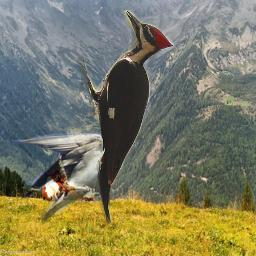Swallow: (12, 129, 136, 224)
Woodpecker: (76, 10, 174, 224)
